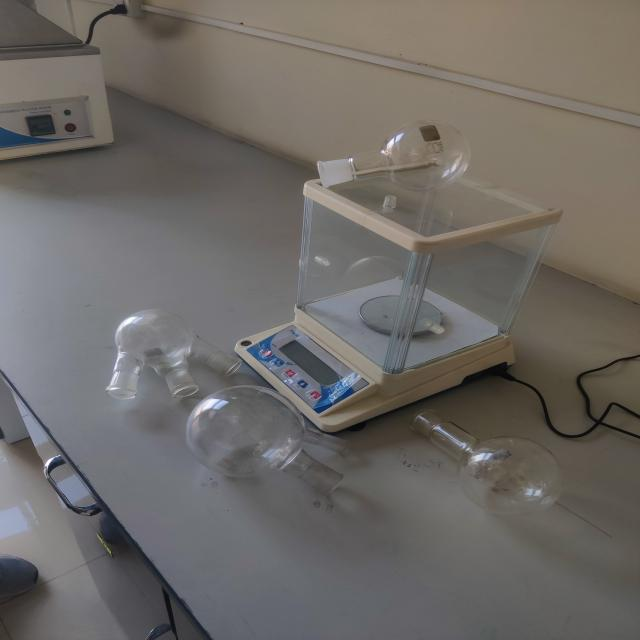Round_Bottom_Flask_Borosilicate_Glass_1_Neck: (399, 389, 616, 536), (297, 95, 497, 217)
Round_Bottom_Flask_Borosilicate_Glass_2_Neck: (171, 367, 369, 514)
Round_Bottom_Flask_Borosilicate_Glass_3_Neck: (90, 285, 265, 413)
